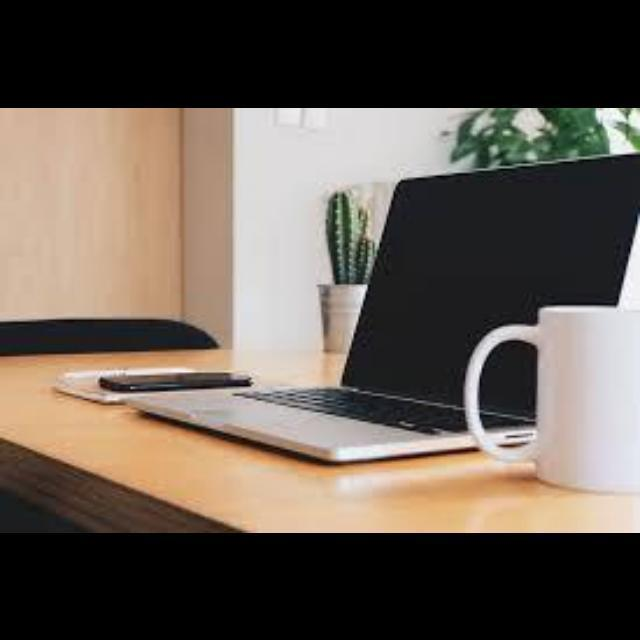phone: (75, 337, 267, 411)
